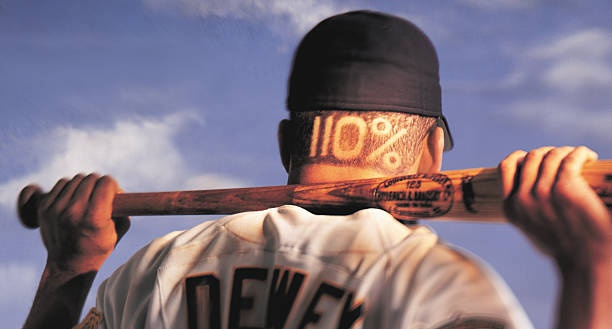bita: (13, 155, 608, 222)
